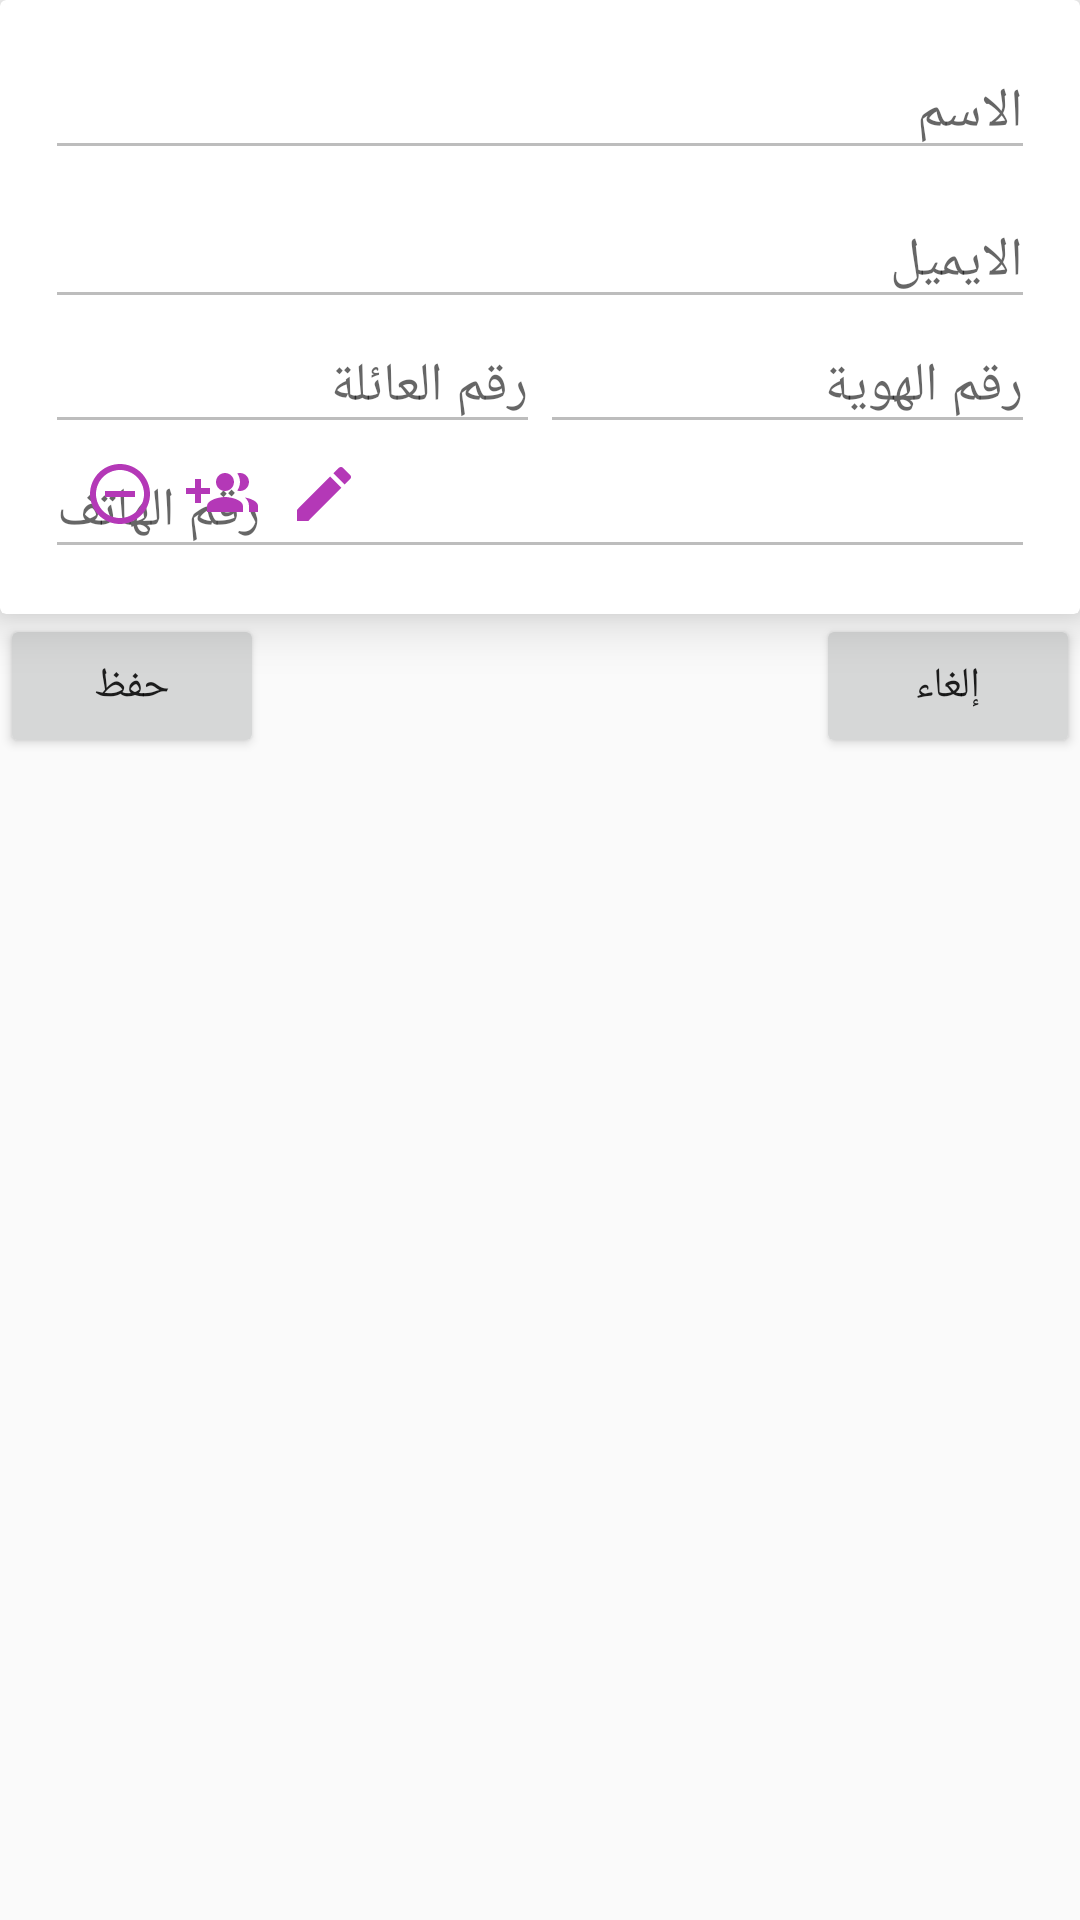

Where to tap for icons on this 1080 × 1920 app screen, as (x=x, y=y):
add child: (x=222, y=501)
edit: (x=324, y=494)
remove: (x=120, y=497)
